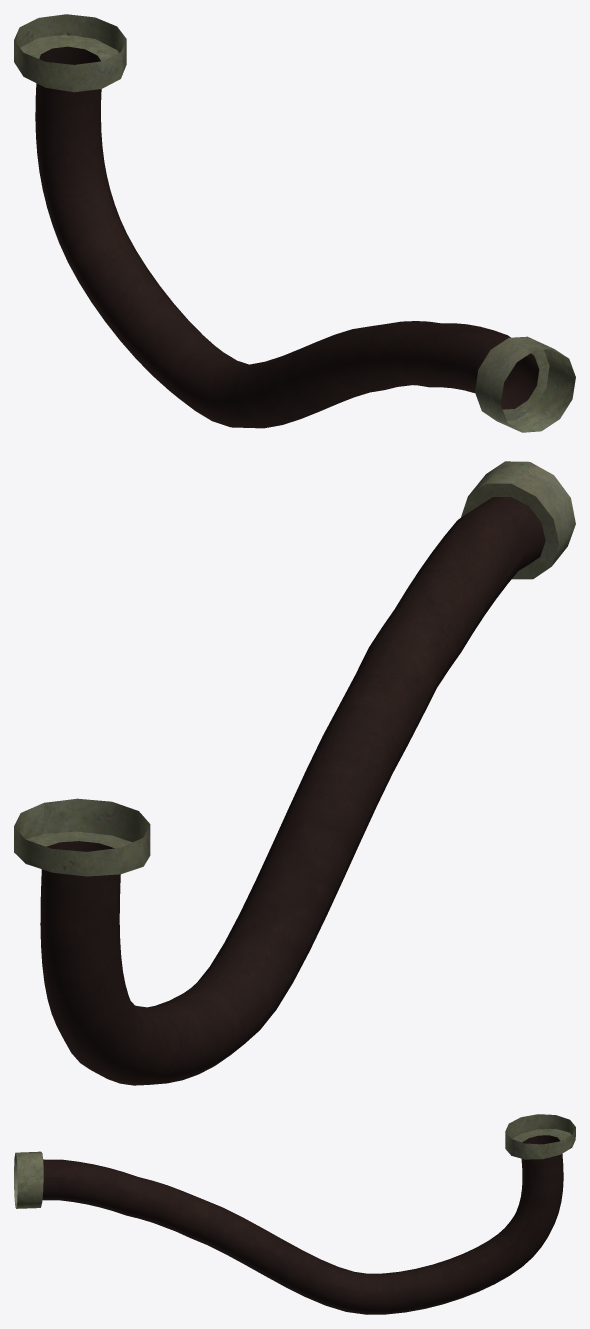
File: Cable07-.fbx
3 renders of one model, top to bottom at view 1: azimuth 30°, elevation 25°; view 2: azimuth 150°, elevation 25°; view 3: azimuth 270°, elevation 25°, orthographic. The views are drawn at different scales.
Parts seen in each view (by area): view 1: Cab7; view 2: Cab7; view 3: Cab7.
Boxes of the visible parts, x1,y1,x2,y2 form: Cab7: [14, 14, 575, 432]; Cab7: [14, 461, 575, 1085]; Cab7: [14, 1114, 575, 1314].
Bounding box in the file's own units: 7.24 × 14.37 × 40.67.
